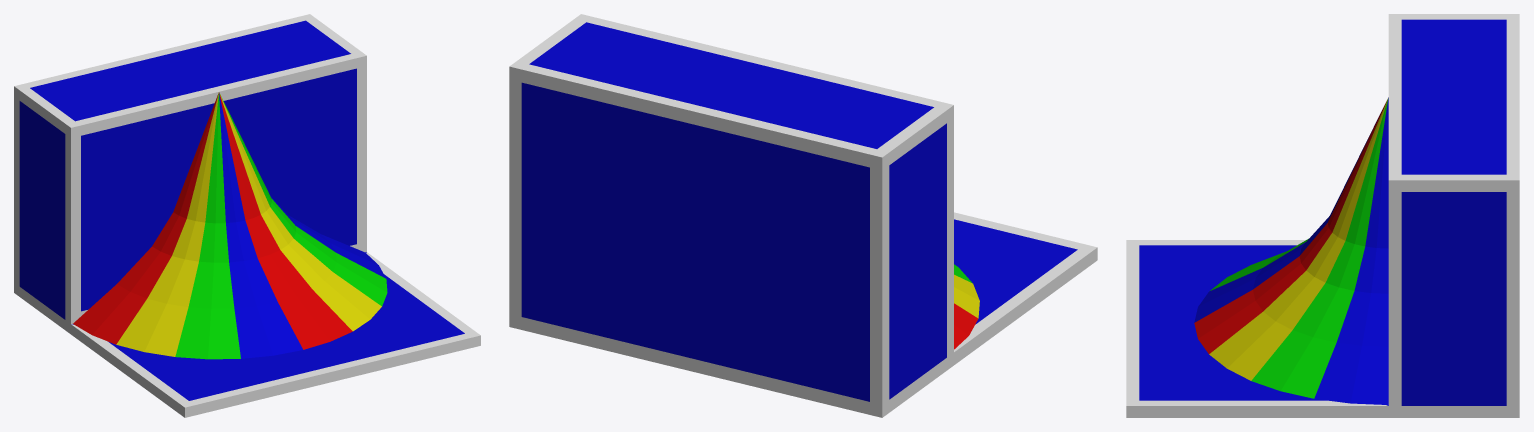
File: vulcano 1.fbx
3 views of the same model, side by side, from view 1: azimuth 30°, elevation 25°; view 2: azimuth 150°, elevation 25°; view 3: azimuth 270°, elevation 25° (orthographic). The views are drawn at different scales.
Visible parts, largest first — view 1: Cube; view 2: Cube; view 3: Cube.
Boxes of the visible parts, <box> form: Cube: <box>14,14,480,417</box>; Cube: <box>509,14,1097,417</box>; Cube: <box>1126,14,1519,417</box>.
Size of the model in its own units: 74.93 by 50 by 74.93.
